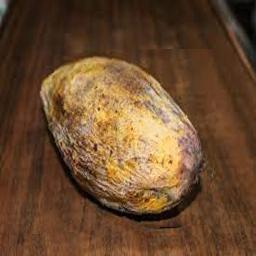Mango Rotten: (26, 49, 220, 235)
